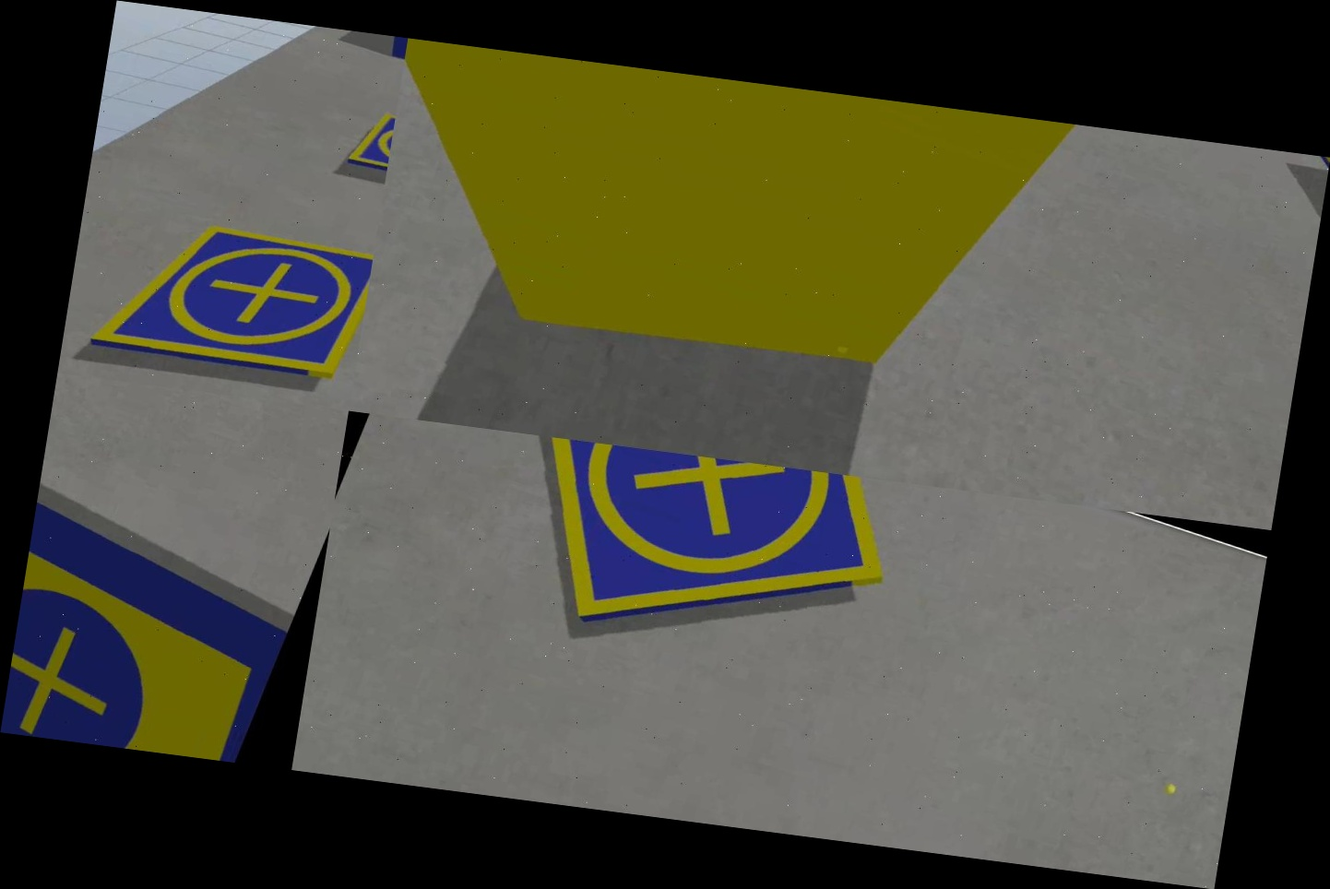large_base: (0, 438, 330, 768)
small_base: (453, 429, 933, 715), (87, 176, 381, 411), (1252, 150, 1330, 293), (344, 96, 398, 192)
